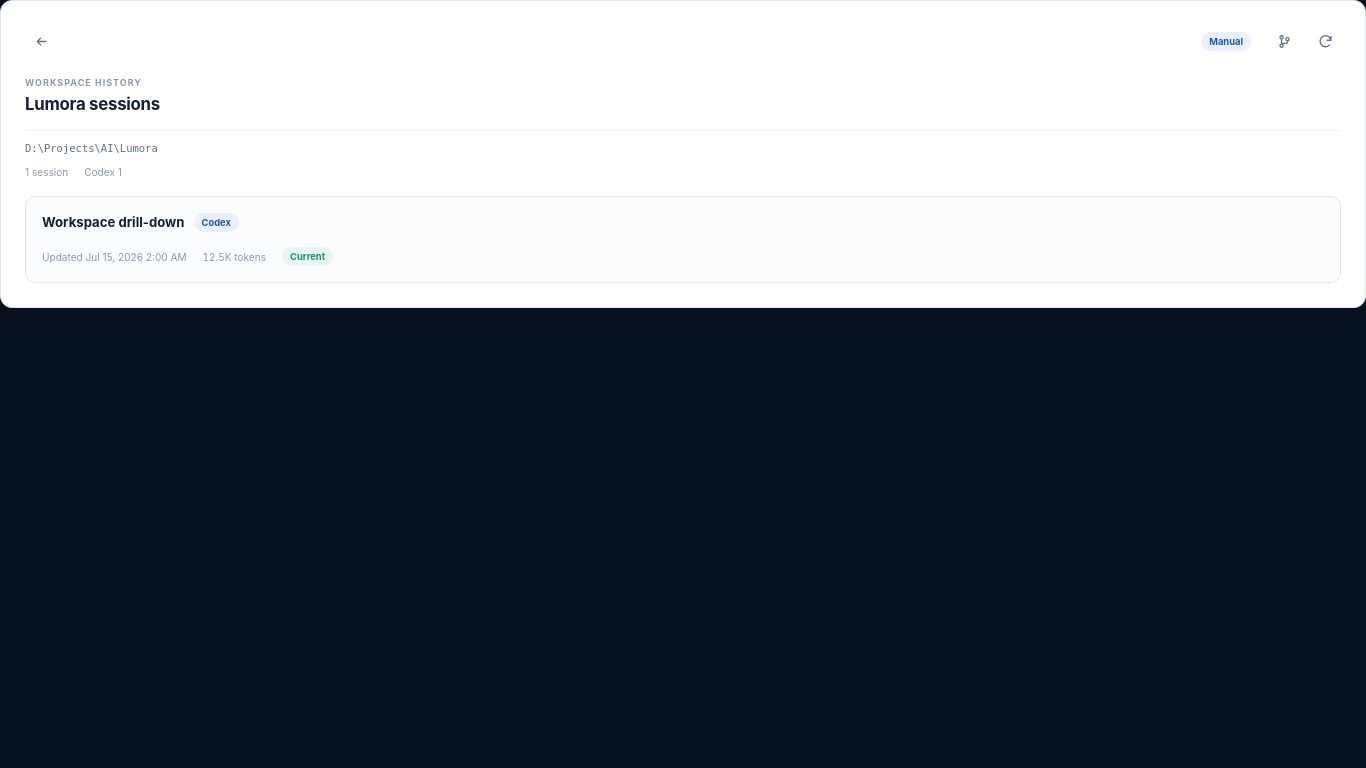
it: WorkspaceSessionsView › changes › refreshes the open panel rather than the session list under it
Click the button named "Changes" at (1284, 41), box [1268,25,1300,57]
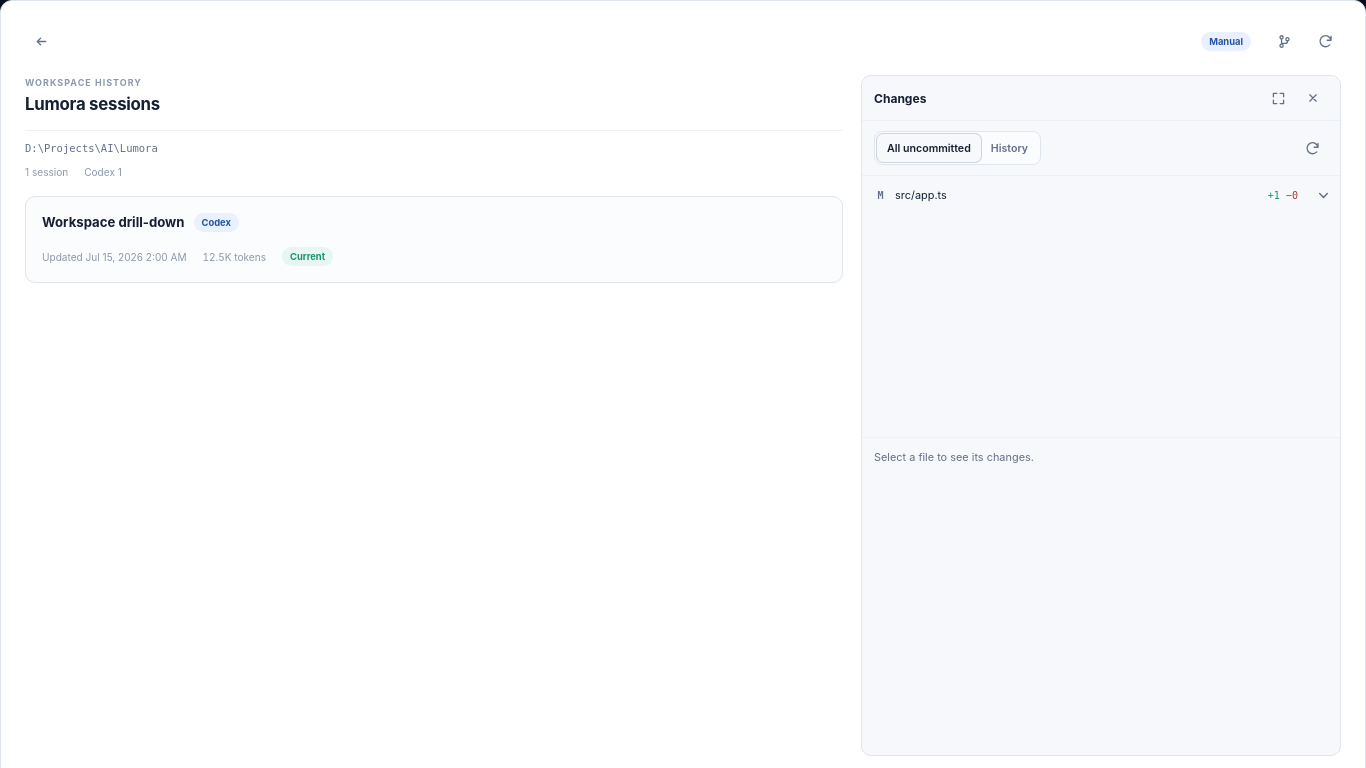
Expected: the text "src/app.ts" is shown, [895,188,947,202]
